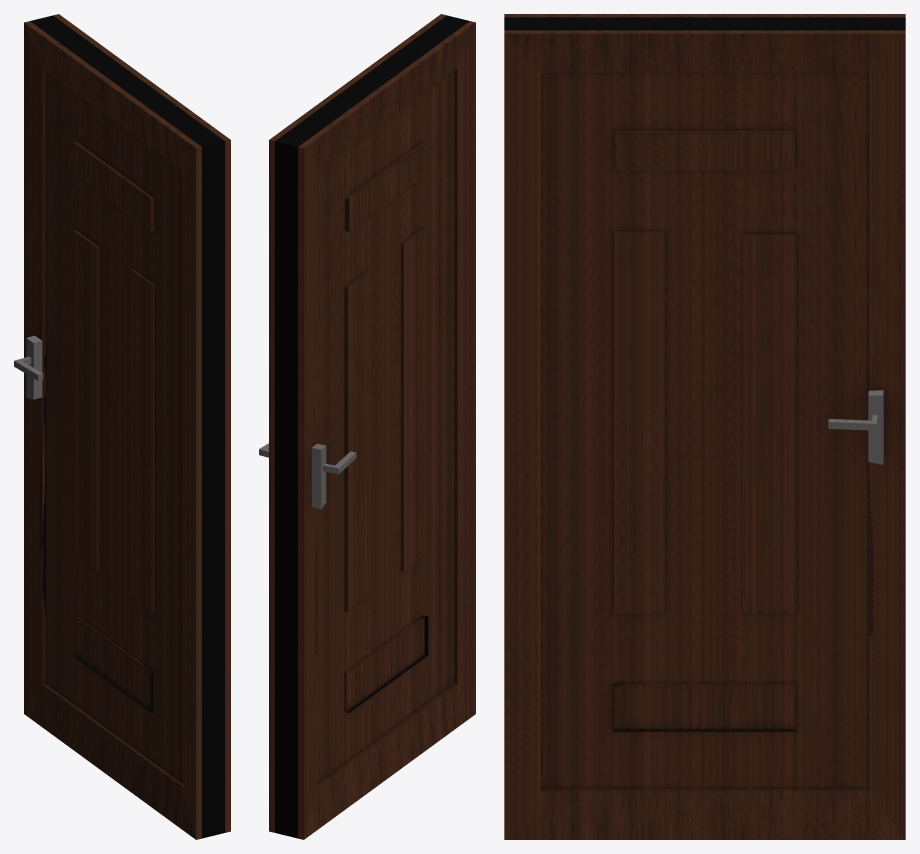
File: PuertaPrincipal.fbx
3 renders of one model, left to right at view 1: azimuth 30°, elevation 25°; view 2: azimuth 150°, elevation 25°; view 3: azimuth 270°, elevation 25°, orthographic. The views are drawn at different scales.
Parts seen in each view (by area): view 1: Puerta; view 2: Puerta; view 3: Puerta.
Boxes of the visible parts, left/top/right/bottom form: Puerta: left=14, top=14, right=230, bottom=839; Puerta: left=259, top=14, right=475, bottom=839; Puerta: left=504, top=14, right=905, bottom=839.
Size of the model in its own units: 0.7111 by 5.89 by 2.66.
2 materials, 1 textured.
